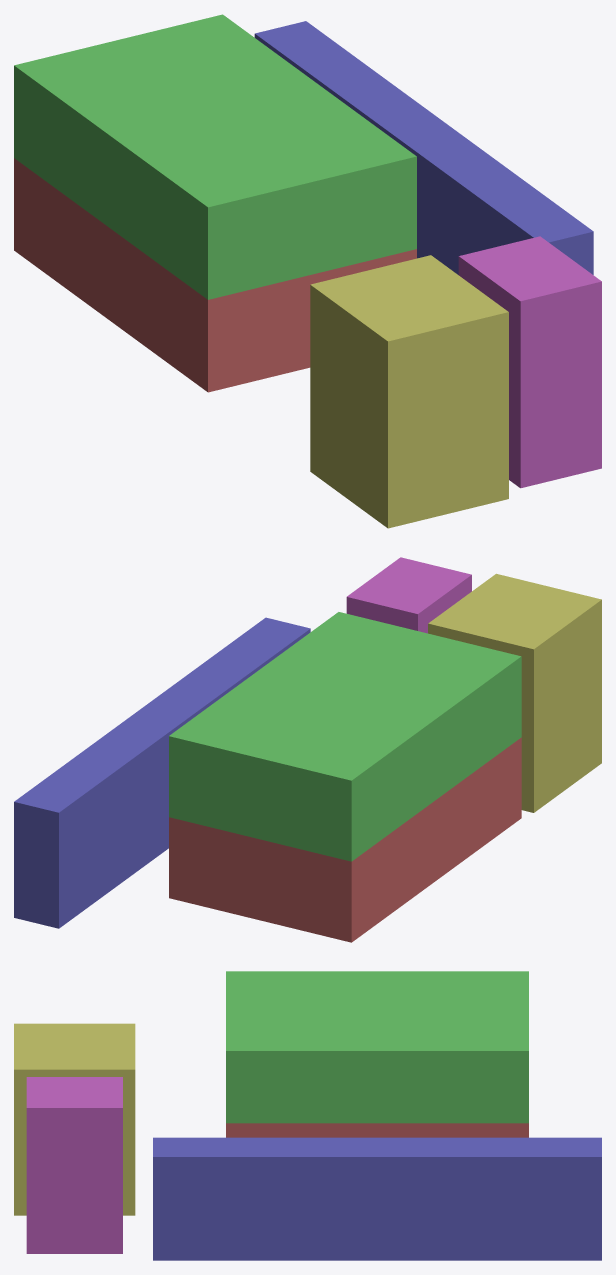
The model's file is Ladda ner pall_1.glb.
The picture shows the model from 3 angles, top to bottom: view 1: azimuth 30°, elevation 25°; view 2: azimuth 150°, elevation 25°; view 3: azimuth 270°, elevation 25°; orthographic projection. The views are drawn at different scales.
Visible parts, largest first — view 1: world; view 2: world; view 3: world.
Boxes of the visible parts, x1,y1,x2,y2 form: world: (14,14,601,528); world: (14,557,601,942); world: (14,971,601,1260).
Size of the model in its own units: 1464 by 959 by 2819.
